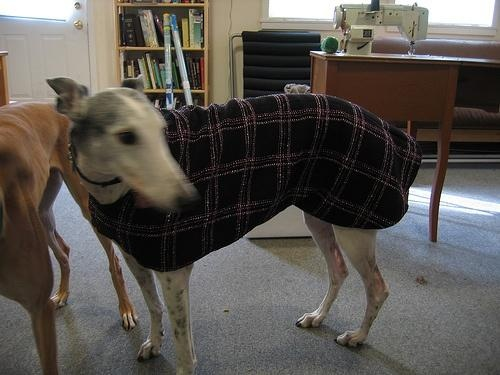dog: (49, 76, 388, 374), (1, 99, 135, 375)
